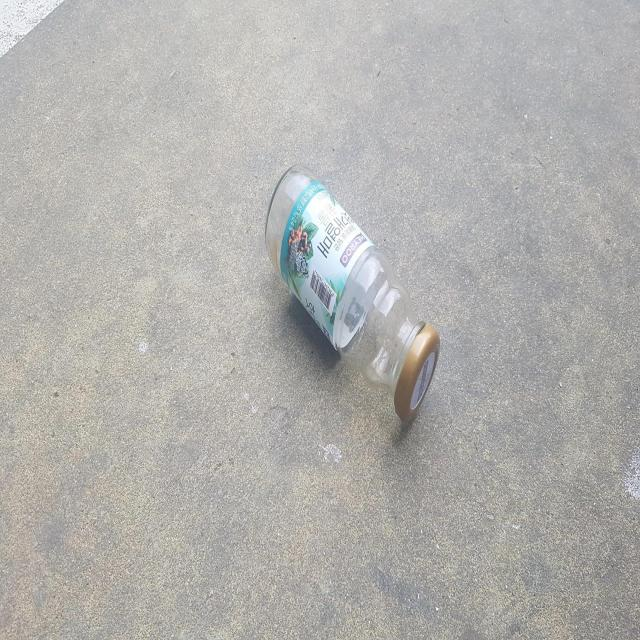glass: (266, 165, 440, 420)
